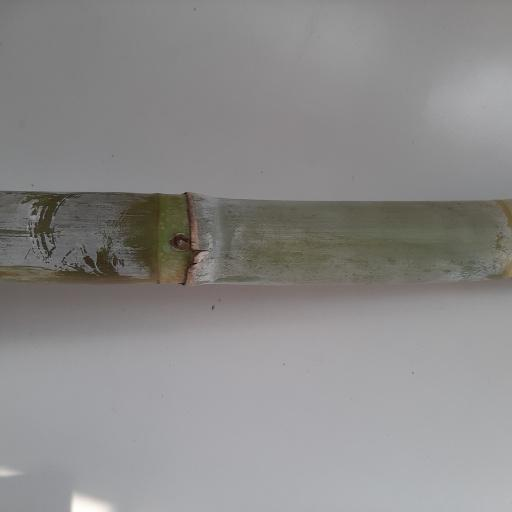Bud: (168, 233, 192, 251)
